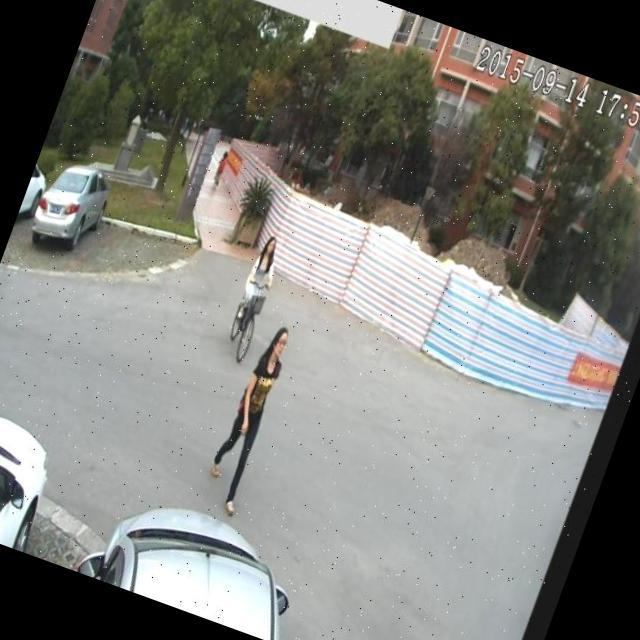person: (194, 316, 304, 521), (226, 226, 292, 338)
